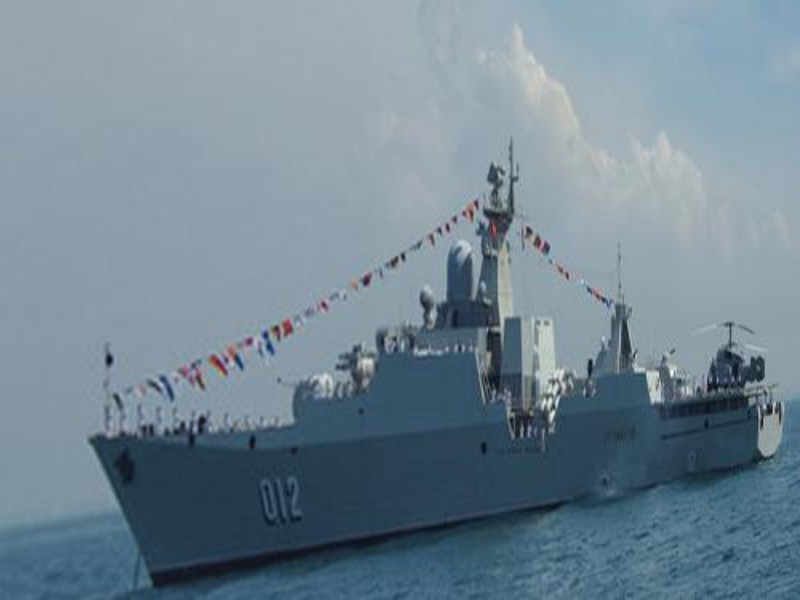cruise: (119, 200, 780, 574)
